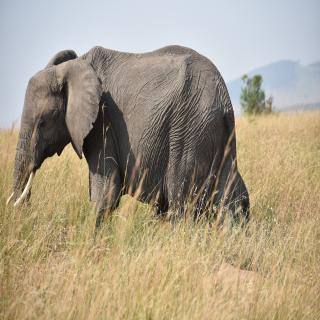Elephant: (6, 38, 254, 256)
